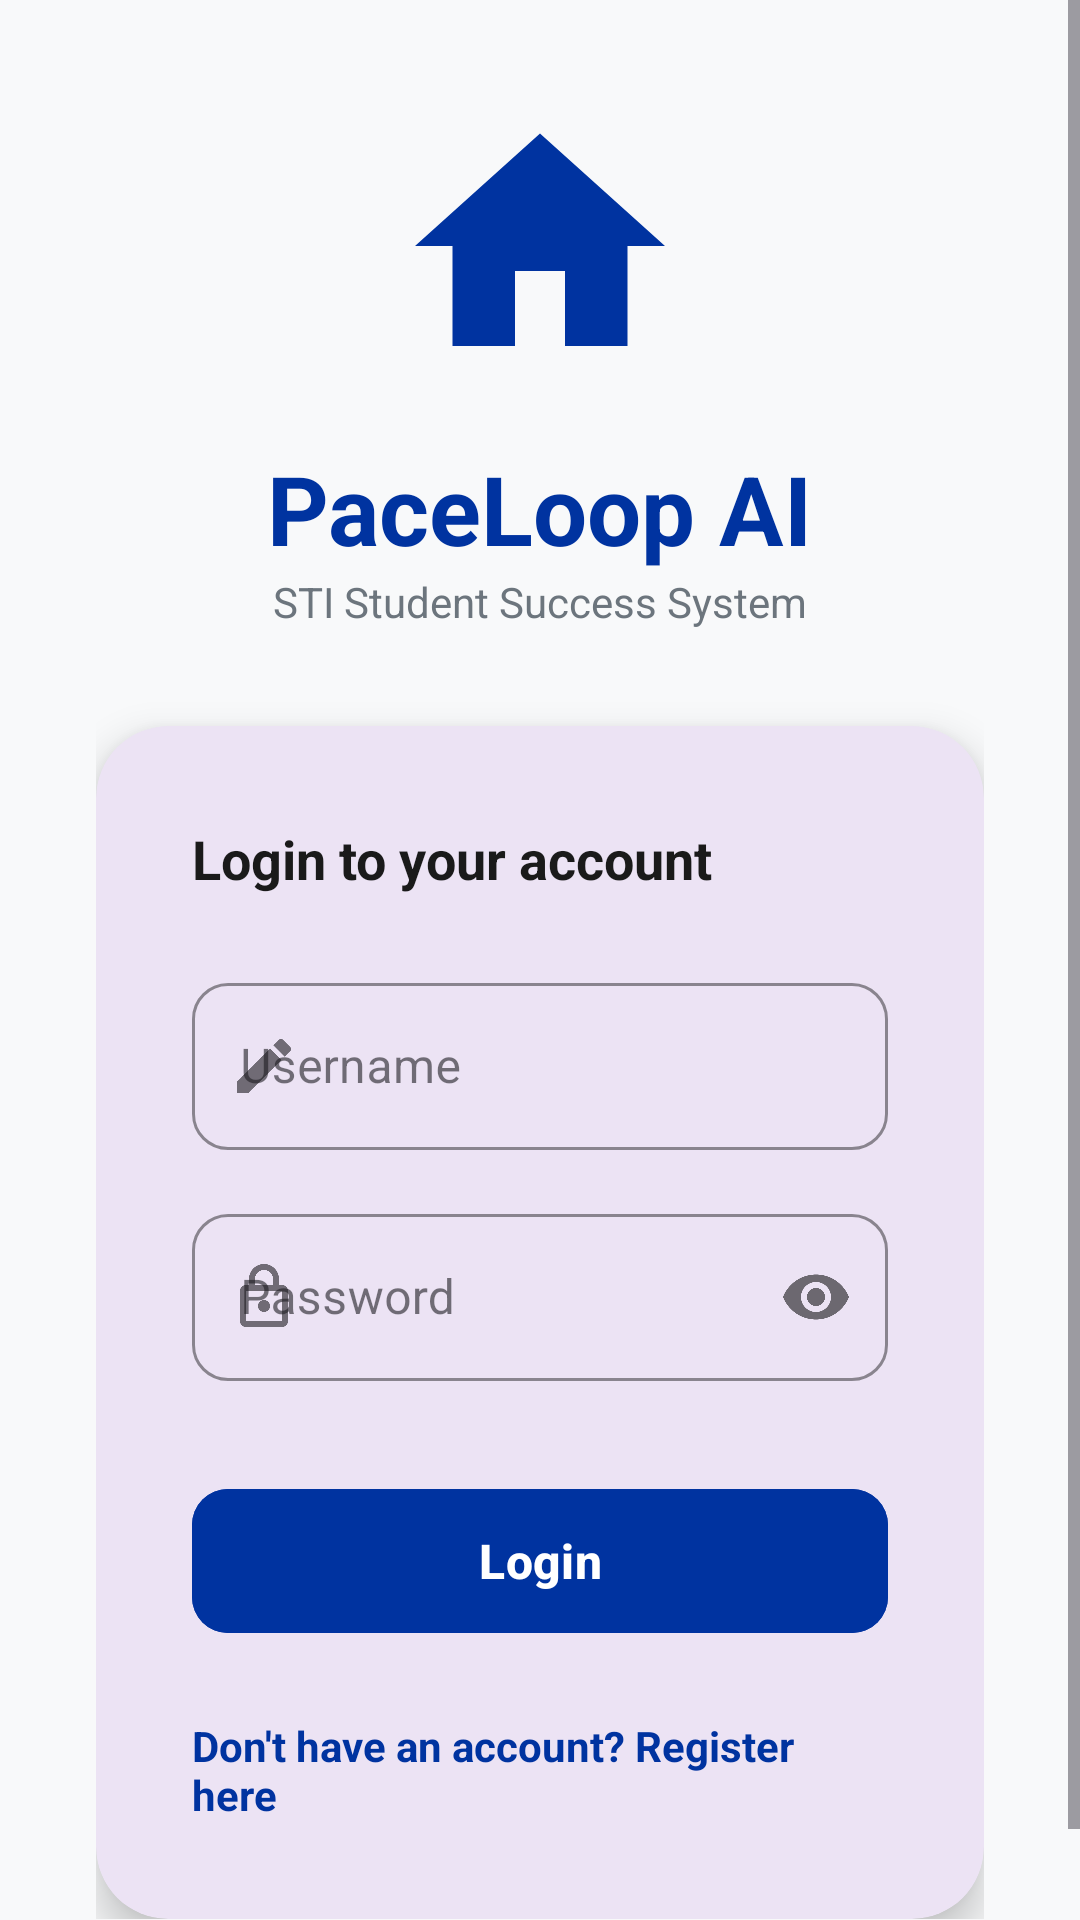

Icons on this 1080px x 1920px Android screen, each with its box as (x1, y1, x2, y2):
home: (415, 133, 665, 346)
